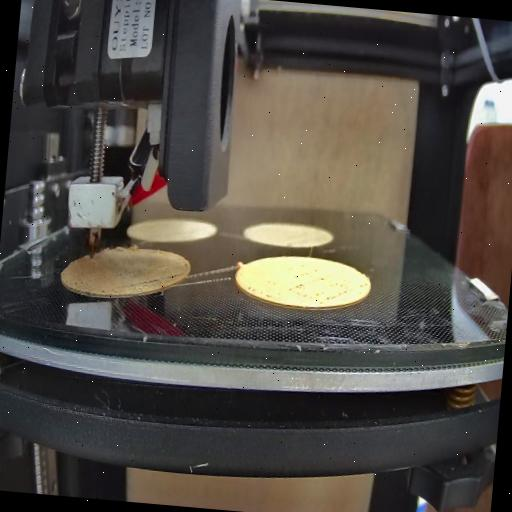under_extrusion: (289, 266, 368, 308), (61, 254, 111, 298), (115, 267, 180, 299), (246, 275, 274, 302)
